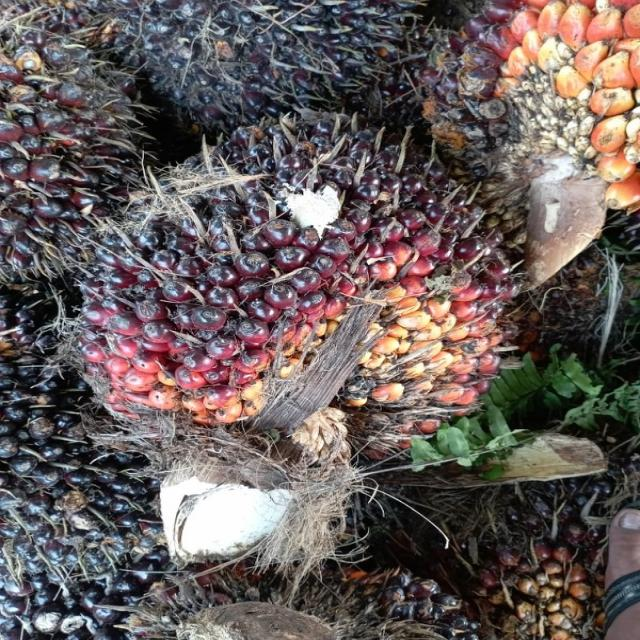fraksi 00: (0, 334, 195, 638), (90, 0, 442, 132)
fraksi 1: (56, 111, 522, 450)
